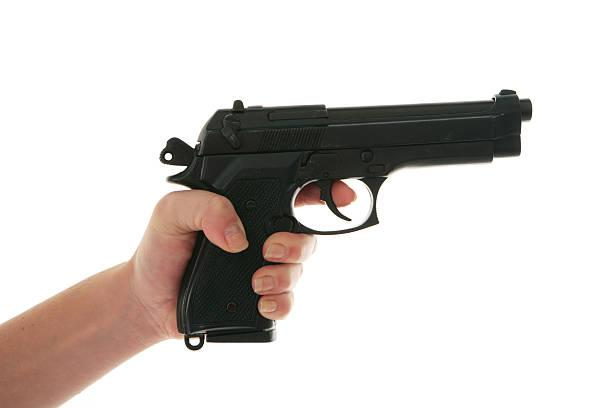weapon: (158, 89, 535, 345)
